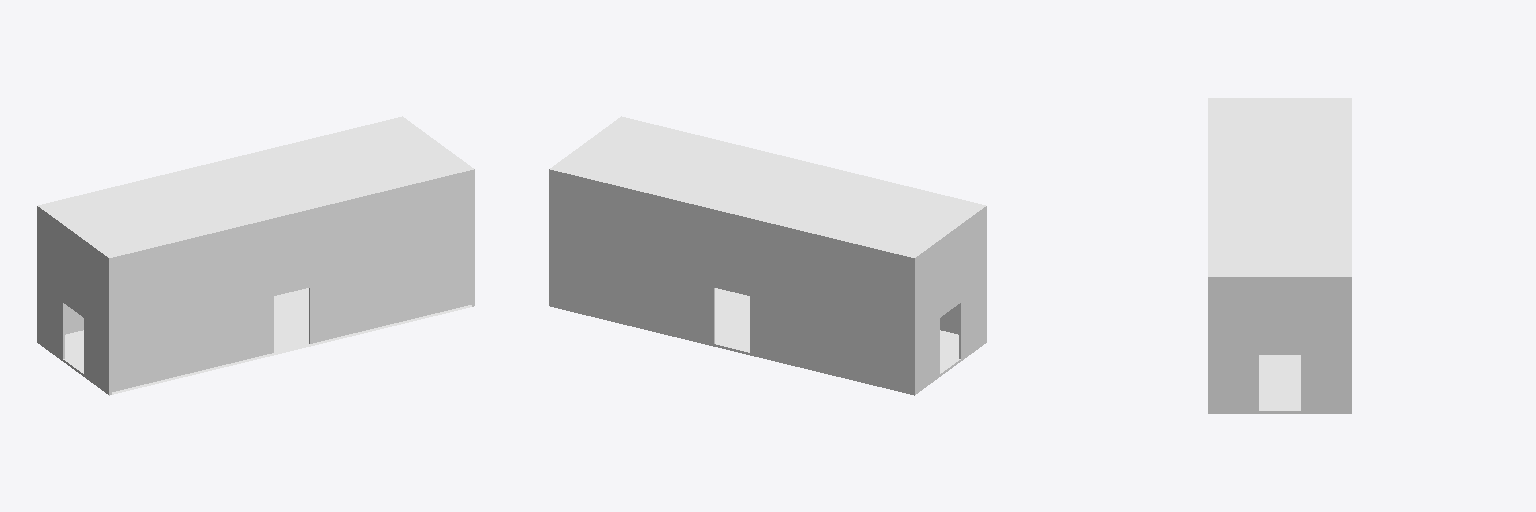
Rendered from Hallway-00.obj.
3 views of the same model, side by side, from view 1: azimuth 30°, elevation 25°; view 2: azimuth 150°, elevation 25°; view 3: azimuth 270°, elevation 25° (orthographic).
Parts seen in each view (by area): view 1: Hallway-00; view 2: Hallway-00; view 3: Hallway-00.
Boxes of the visible parts, x1=… form: Hallway-00: x1=37, y1=116, x2=474, y2=395; Hallway-00: x1=549, y1=116, x2=986, y2=395; Hallway-00: x1=1208, y1=98, x2=1351, y2=413.
Size of the model in its own units: 15.2 by 5.45 by 5.2.